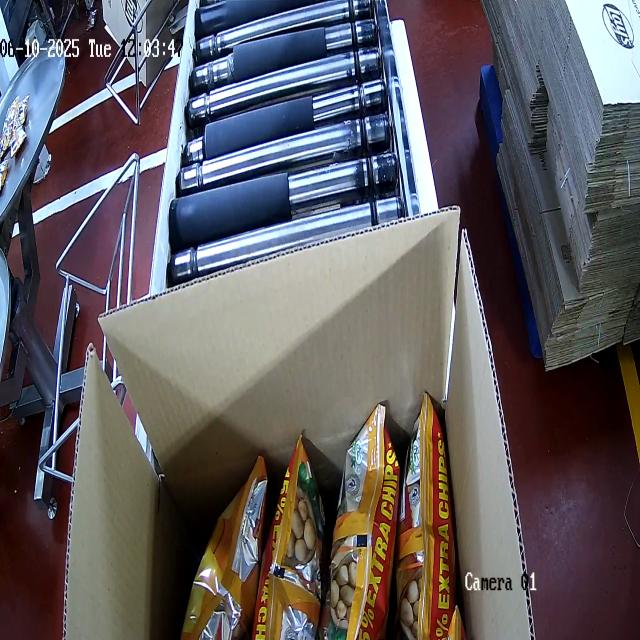FRENCH_CHEESE: (166, 395, 465, 640)
